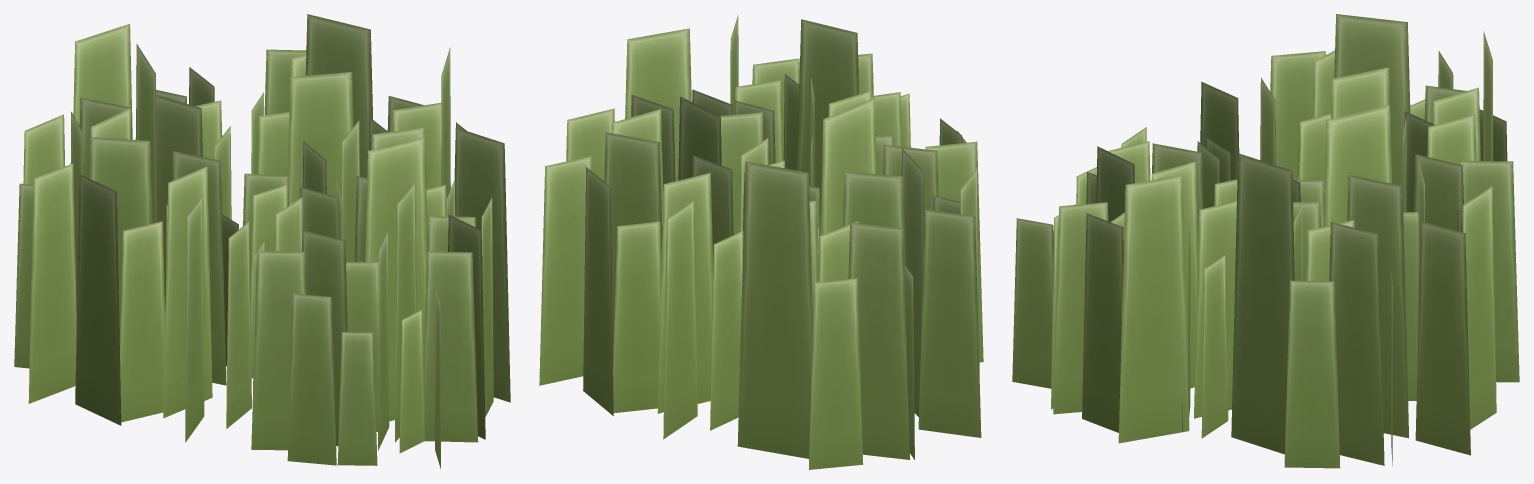
Rendered from SM_Grass_01_B.fbx.
The picture shows the model from 3 angles, left to right: view 1: azimuth 30°, elevation 25°; view 2: azimuth 150°, elevation 25°; view 3: azimuth 270°, elevation 25°; orthographic projection.
Parts seen in each view (by area): view 1: polySurface640; view 2: polySurface640; view 3: polySurface640.
Part boxes in pixels (x1,y1,x2,y2): polySurface640: (14,14,510,469); polySurface640: (539,15,983,469); polySurface640: (1012,14,1519,468).
Bounding box in the file's own units: 32.86 × 23.19 × 34.34.
